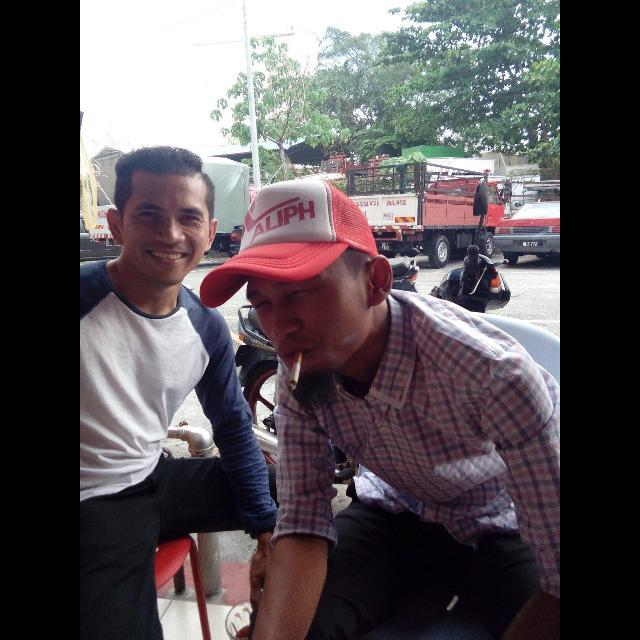rokok: (284, 350, 306, 390)
